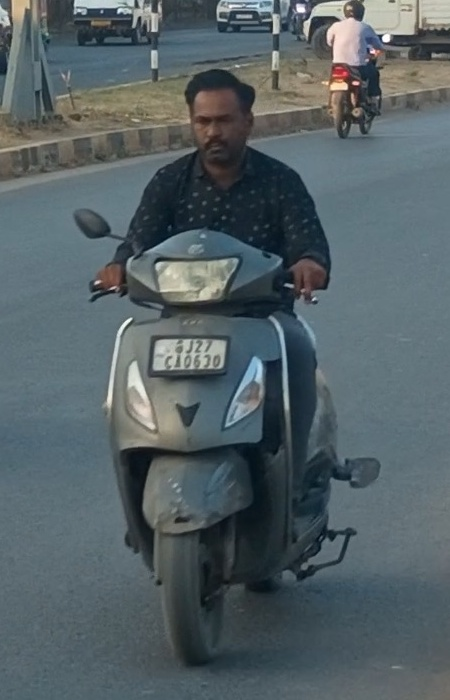BikeWithRider: (64, 63, 386, 673), (316, 0, 395, 143)
Helmet: (339, 0, 369, 24)
NoHelmet: (172, 63, 266, 171)
